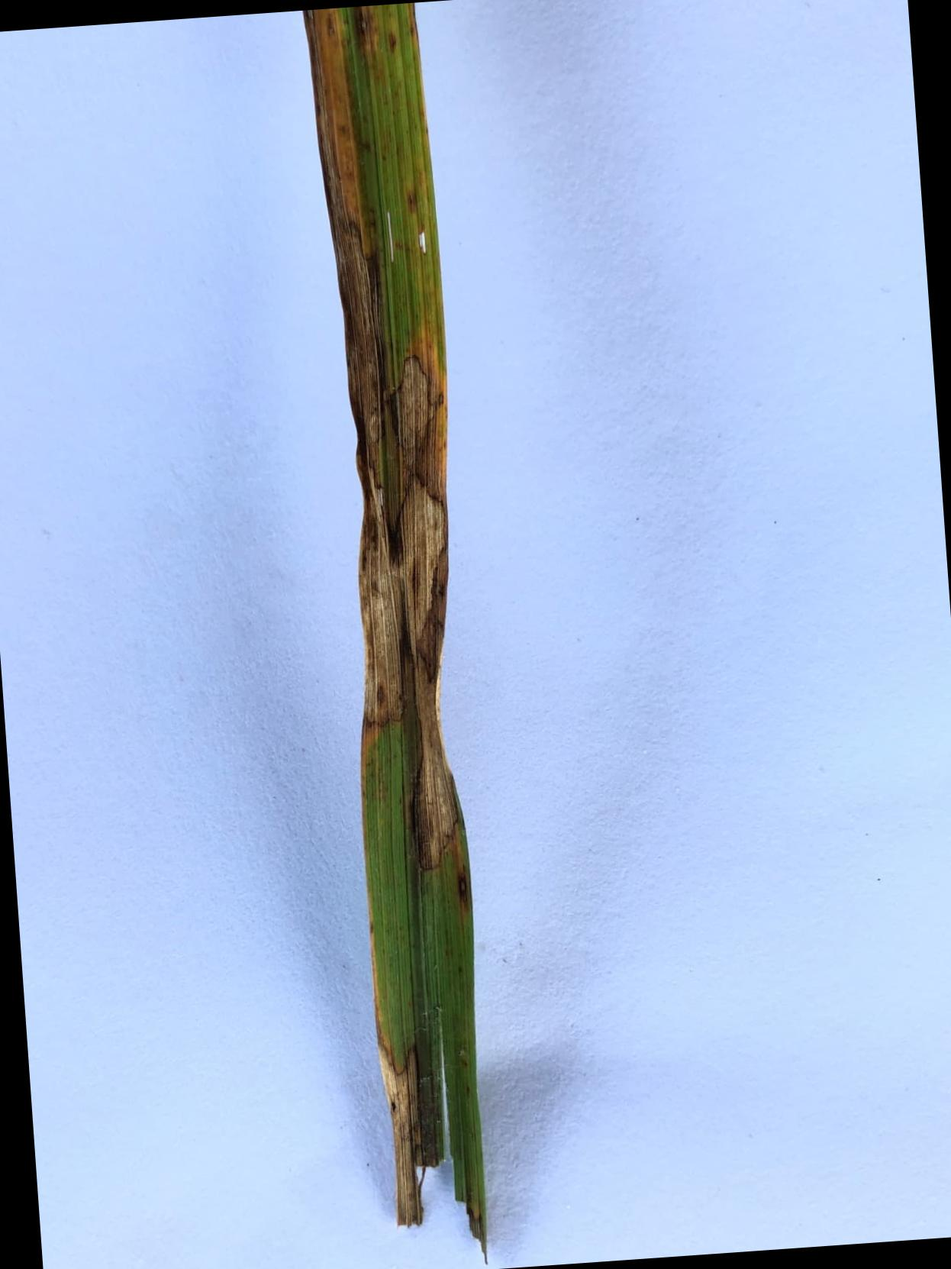Leaf Blight: (304, 7, 474, 931), (365, 933, 425, 1230)
